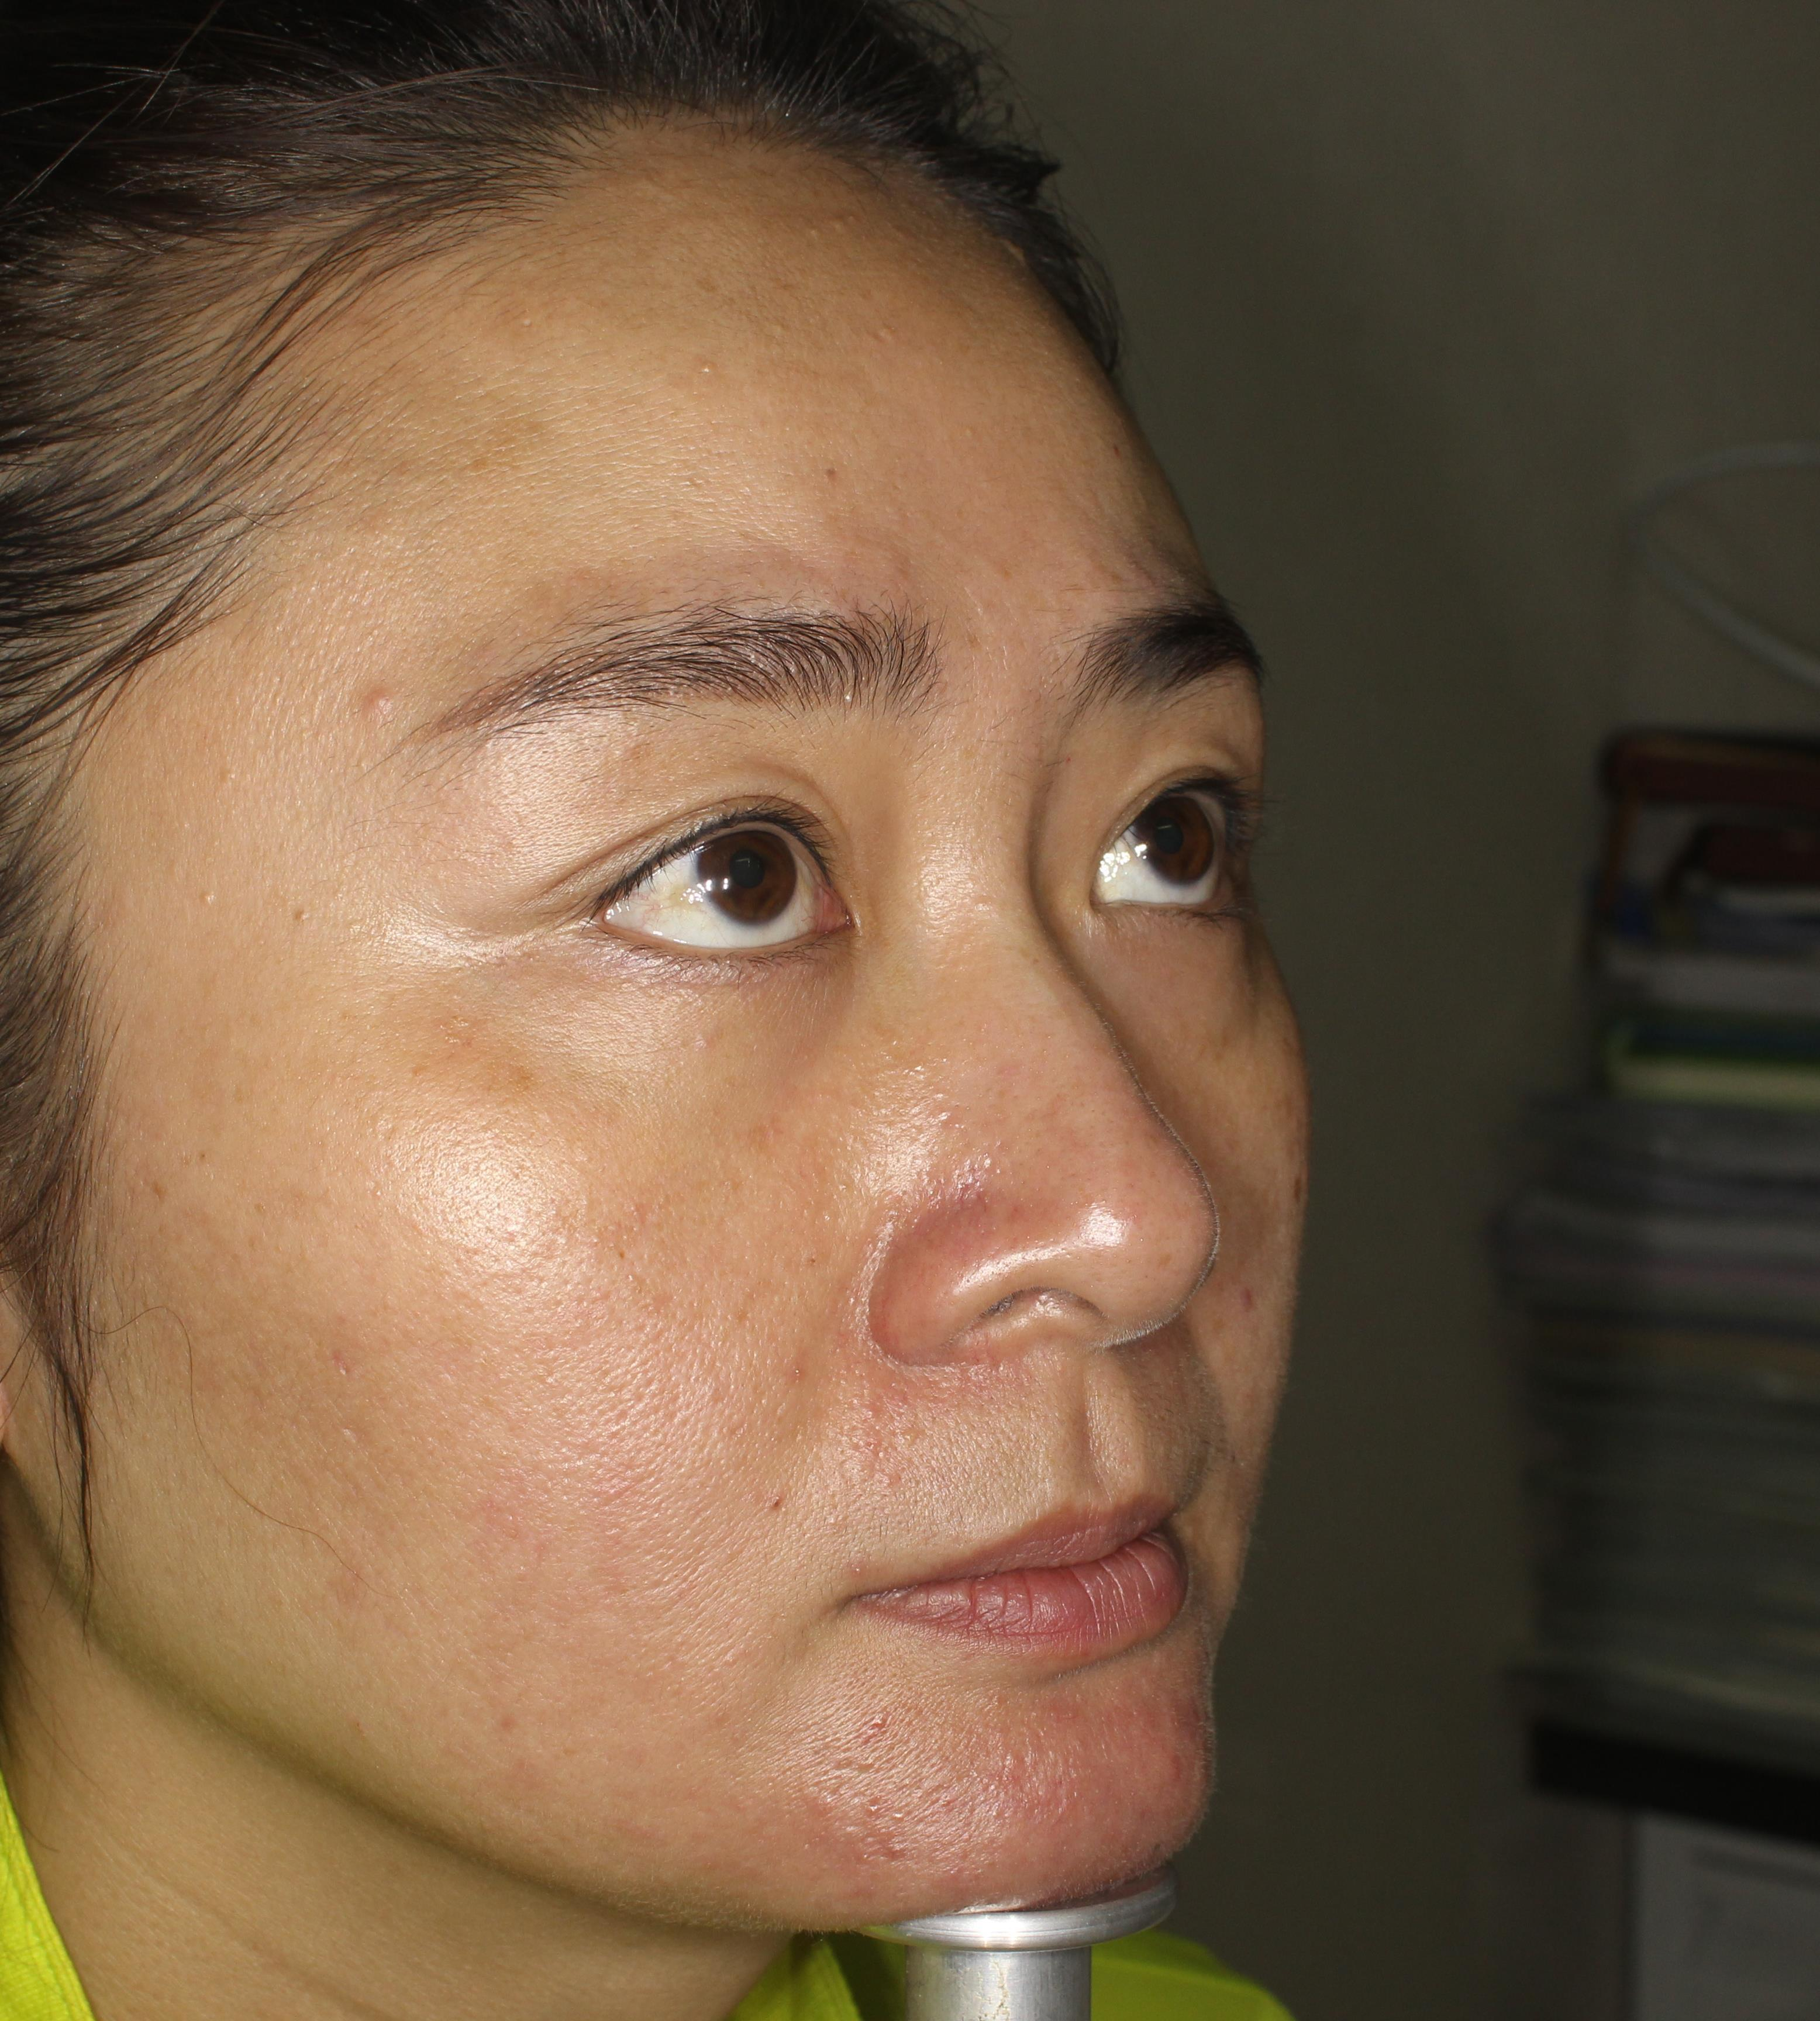fore: (332, 653, 413, 746)
